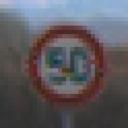speed_limit_50: (24, 21, 109, 109)
